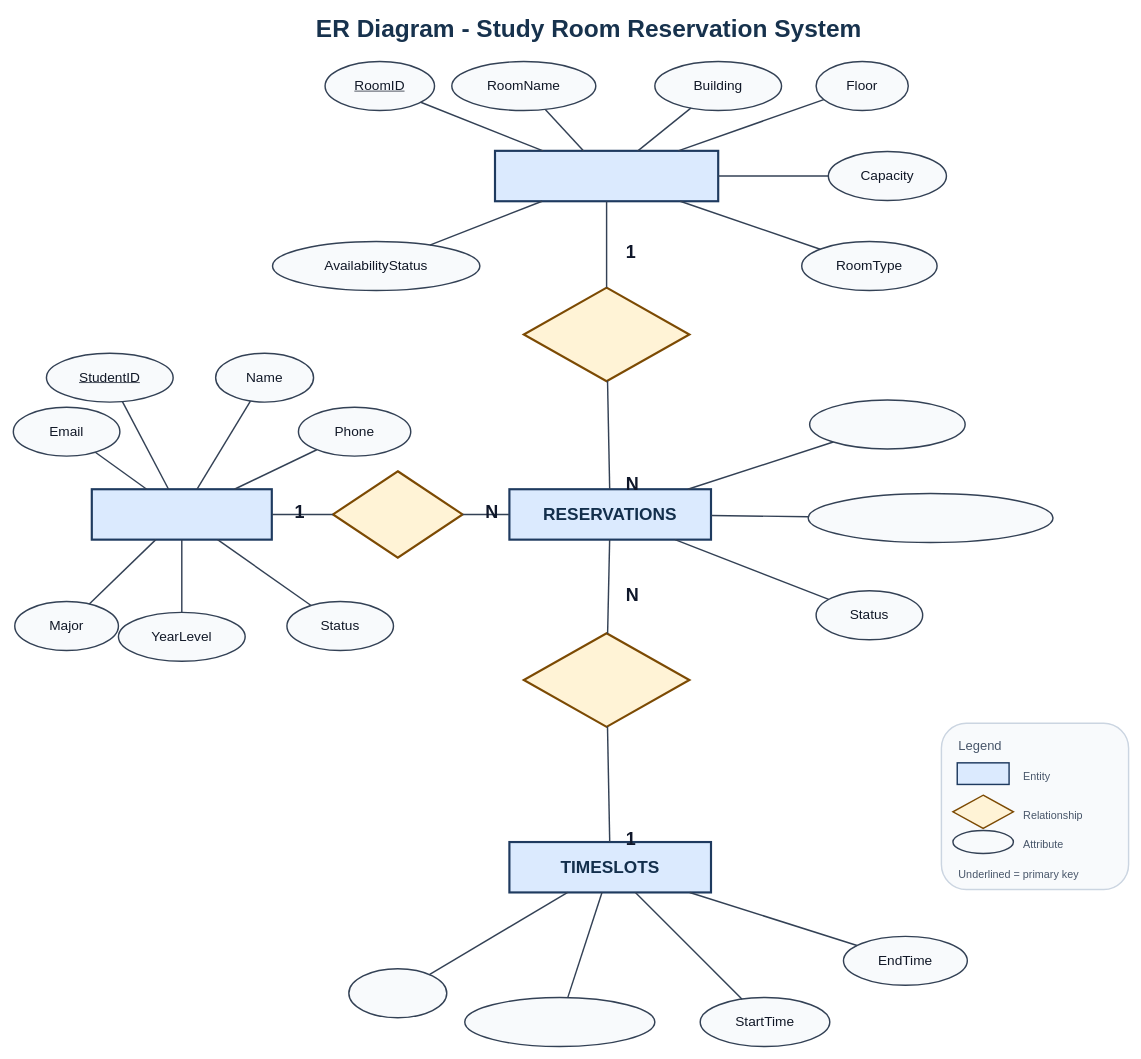
Some shapes in this 1141 by 1059 pixel diagram are drawn without their labels. The box of each missing label's shape, as (x1, y1, x2, y2) in pixels:
FOR ROOM: (522, 286, 690, 382)
FOR SLOT: (522, 632, 690, 728)
MAKES RESERVATION: (332, 470, 463, 558)
ReservationDate: (464, 996, 655, 1047)
ReservationDateCreated: (807, 492, 1053, 543)
ReservationID: (809, 399, 966, 449)
SlotID: (348, 968, 447, 1018)
STUDENTS: (90, 488, 273, 540)
STUDYROOMS: (494, 149, 719, 202)
